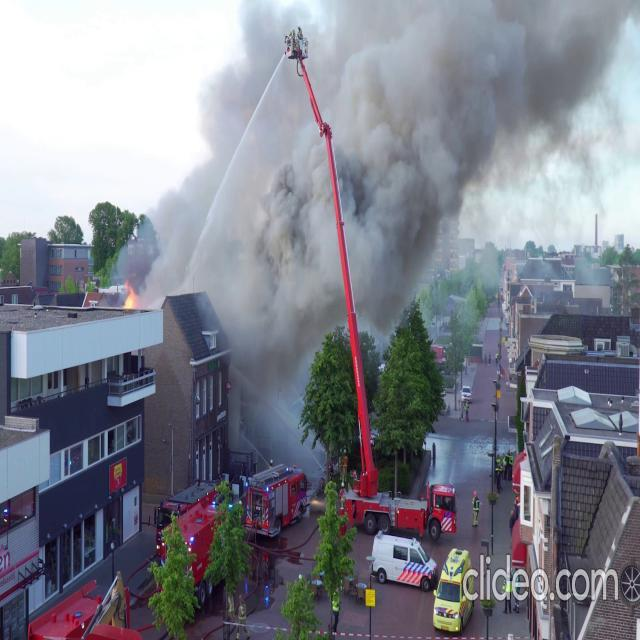Fire: (121, 278, 137, 314)
Smoke: (140, 1, 634, 374)
